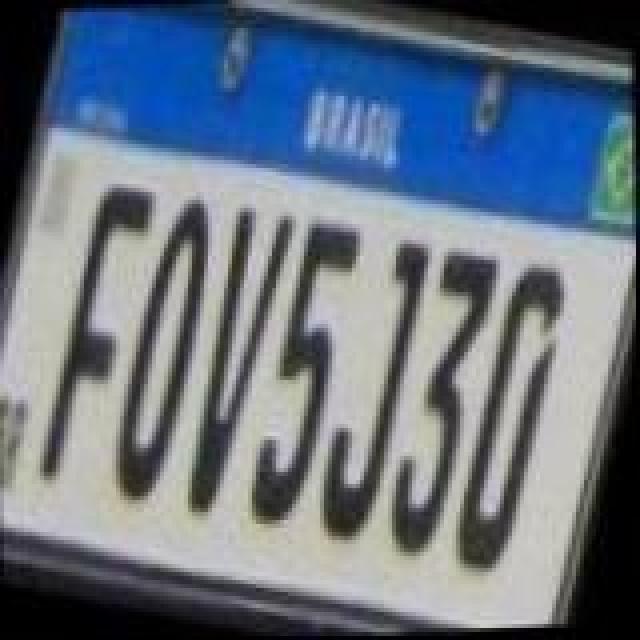3: (364, 248, 516, 564)
5: (226, 212, 378, 532)
D: (436, 256, 588, 584)
F: (20, 174, 172, 494)
J: (298, 230, 450, 550)
O: (90, 186, 238, 510)
V: (160, 198, 308, 522)
